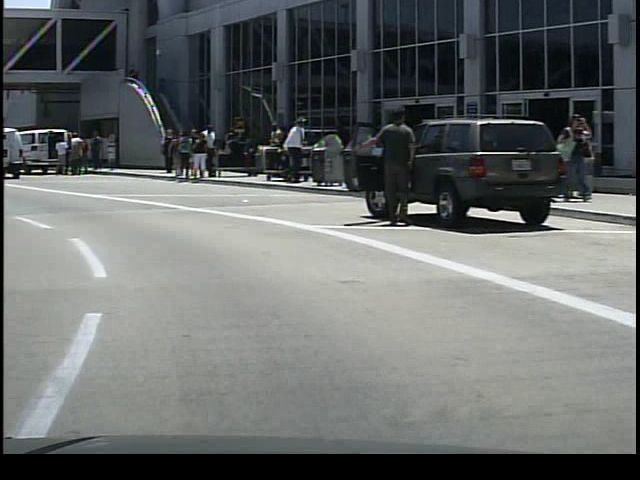person: (363, 104, 416, 232), (553, 107, 587, 202), (273, 113, 304, 191), (197, 123, 222, 181), (155, 125, 178, 176), (186, 129, 208, 180), (84, 128, 106, 175), (67, 130, 84, 179), (52, 136, 70, 177)
